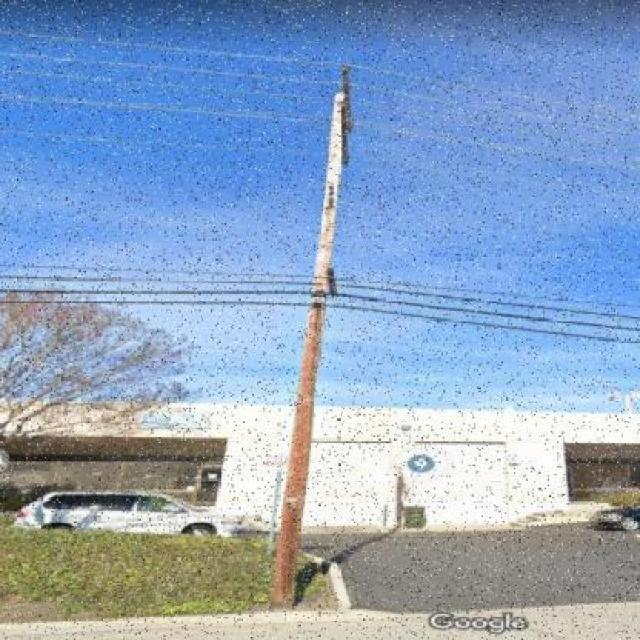pole: (184, 11, 421, 618)
